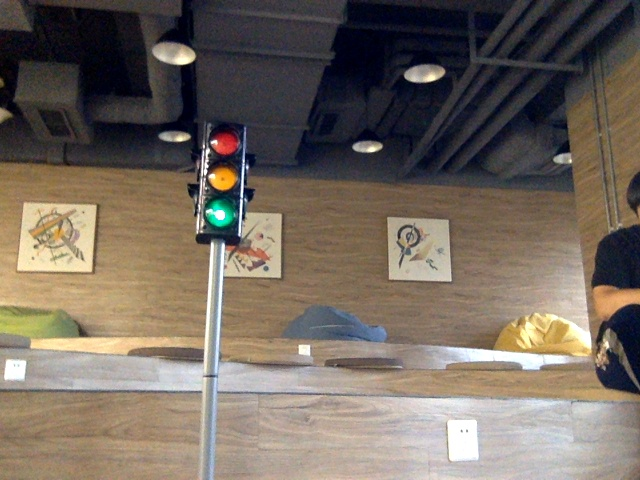green: (203, 129, 234, 230)
